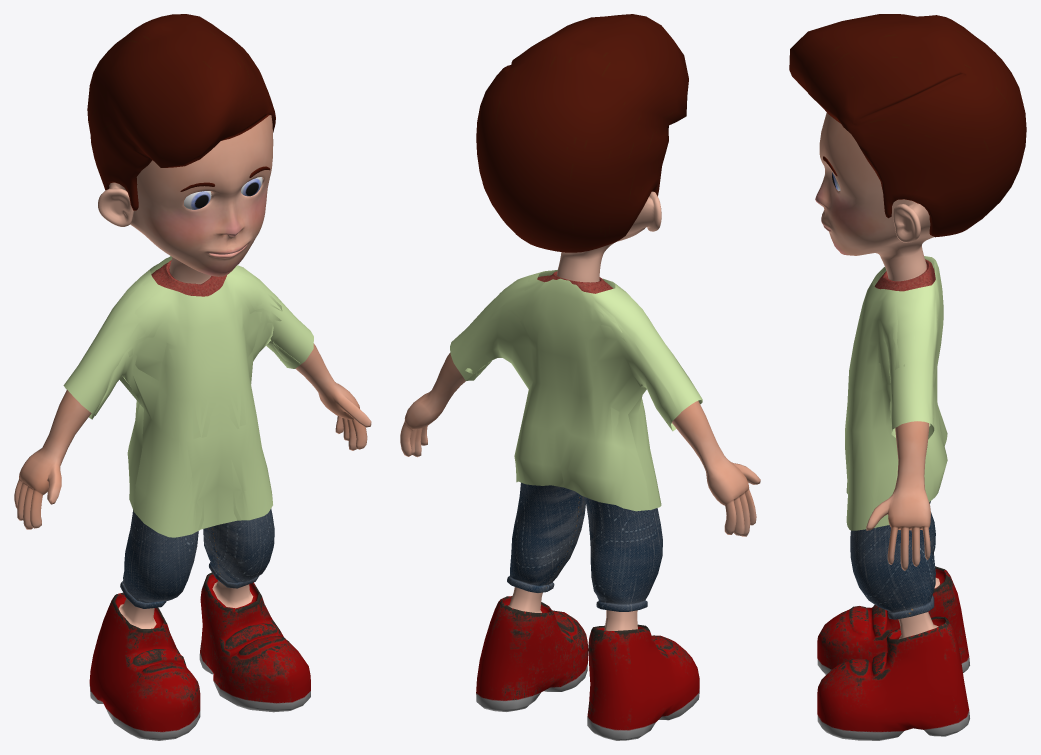
Rendered from Boy_Two.glb.
3 renders of one model, left to right at view 1: azimuth 30°, elevation 25°; view 2: azimuth 150°, elevation 25°; view 3: azimuth 270°, elevation 25°, orthographic.
Visible parts, largest first — view 1: character01_Tex_0.001, character01; view 2: character01_Tex_0.001, character01; view 3: character01_Tex_0.001, character01.
Boxes of the visible parts, x1,y1,x2,y2 form: character01_Tex_0.001: (14, 14, 371, 740); character01: (63, 256, 313, 537); character01_Tex_0.001: (400, 14, 760, 740); character01: (450, 269, 702, 511); character01_Tex_0.001: (789, 14, 1026, 740); character01: (845, 256, 947, 530).
Bounding box in the file's own units: 0.7022 × 1.33 × 0.4234.
Materials: 2 (1 with a texture image).
